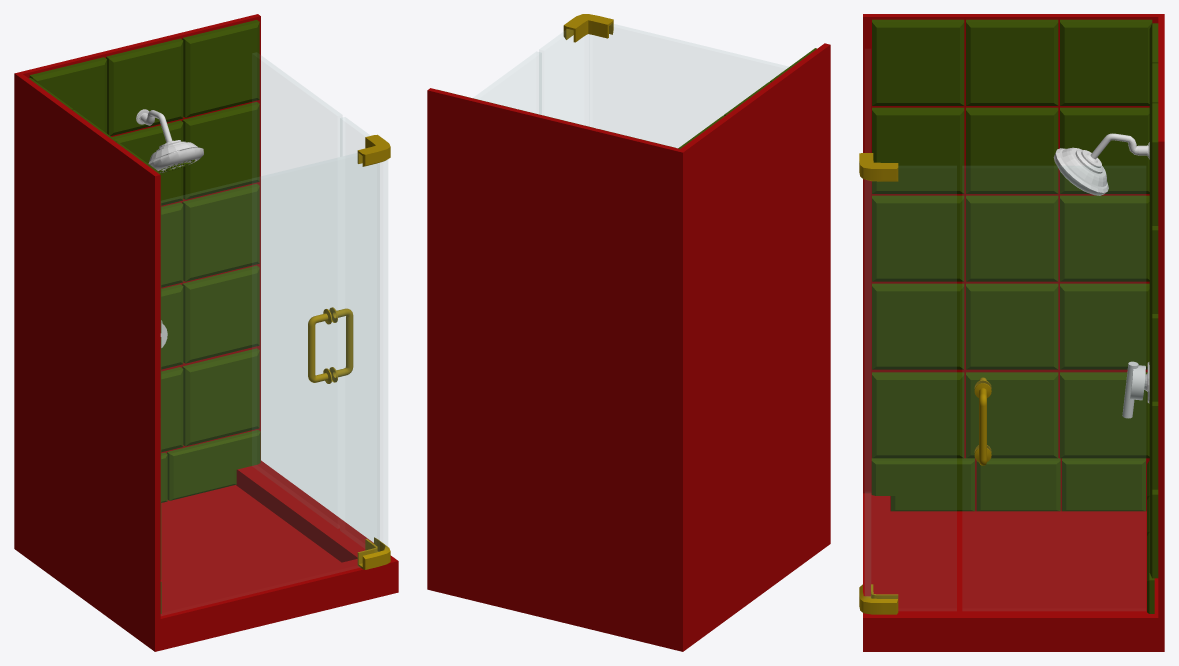
The model's file is Shower.fbx.
The picture shows the model from 3 angles, left to right: view 1: azimuth 30°, elevation 25°; view 2: azimuth 150°, elevation 25°; view 3: azimuth 270°, elevation 25°; orthographic projection. The views are drawn at different scales.
Parts seen in each view (by area): view 1: pCylinder82; view 2: pCylinder82; view 3: pCylinder82.
Boxes of the visible parts, x1,y1,x2,y2 form: pCylinder82: (14, 14, 398, 651); pCylinder82: (427, 14, 830, 651); pCylinder82: (859, 14, 1164, 651).
Size of the model in its own units: 5.42 by 9.71 by 5.27.
